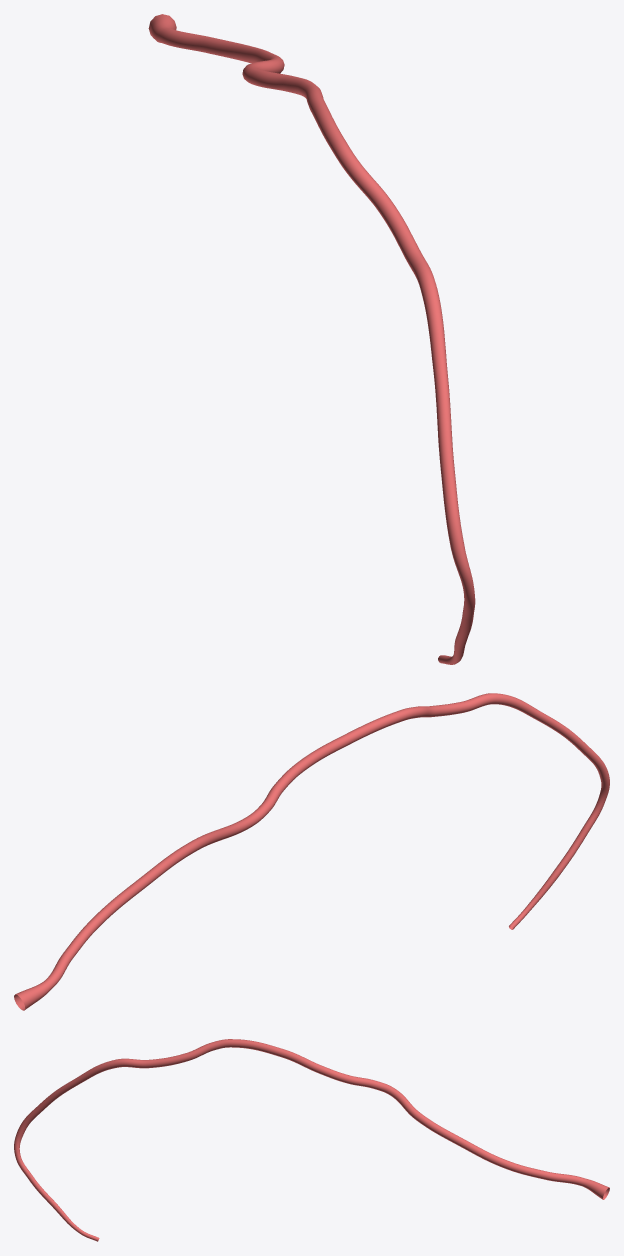
File: Infra-orbital_artery.l_BezierCurve.102.glb
3 views of the same model, one above another, from view 1: azimuth 30°, elevation 25°; view 2: azimuth 150°, elevation 25°; view 3: azimuth 270°, elevation 25° (orthographic). The views are drawn at different scales.
Visible parts, largest first — view 1: Infra-orbital_artery.l_BezierCurve.102; view 2: Infra-orbital_artery.l_BezierCurve.102; view 3: Infra-orbital_artery.l_BezierCurve.102.
Part boxes in pixels (x1,y1,x2,y2): Infra-orbital_artery.l_BezierCurve.102: [148, 14, 475, 664]; Infra-orbital_artery.l_BezierCurve.102: [14, 693, 609, 1010]; Infra-orbital_artery.l_BezierCurve.102: [14, 1039, 609, 1241].
Bounding box in the file's own units: 0.0126 × 0.0165 × 0.0424.
